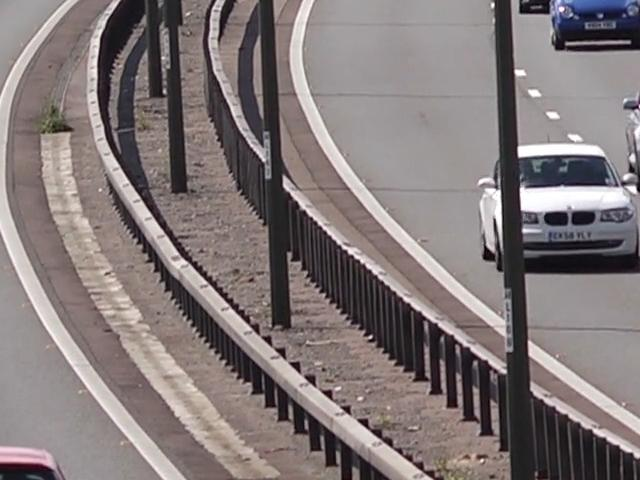car: (479, 145, 640, 265), (545, 0, 640, 55)
